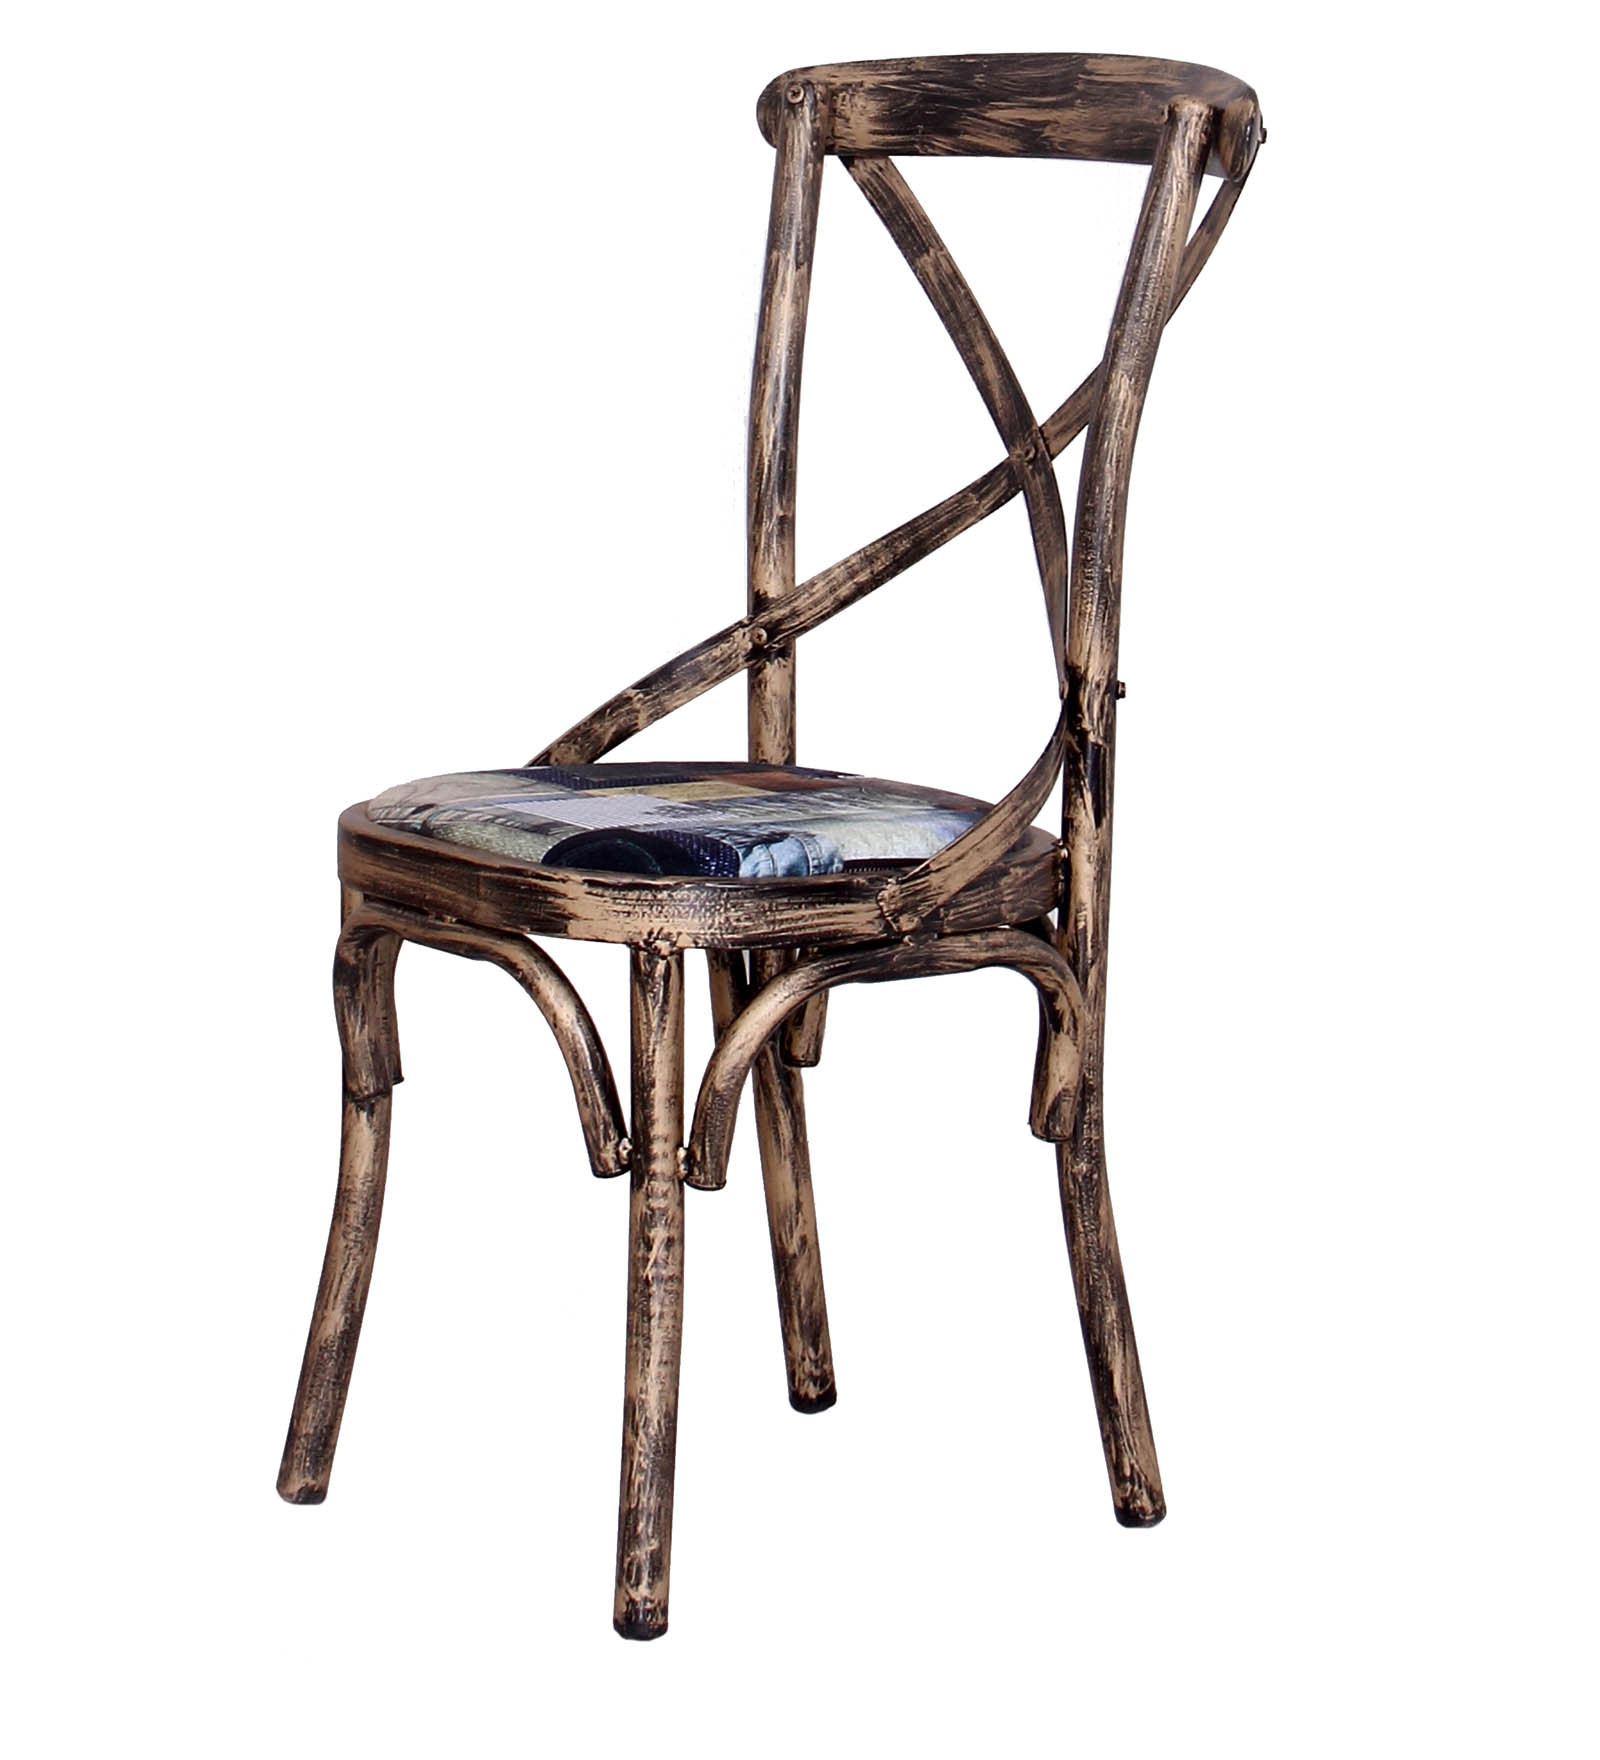Stanrock Metal Chair (Set of 2) in Antique Bronze by Bohemiana: (323, 38, 1241, 1597)
